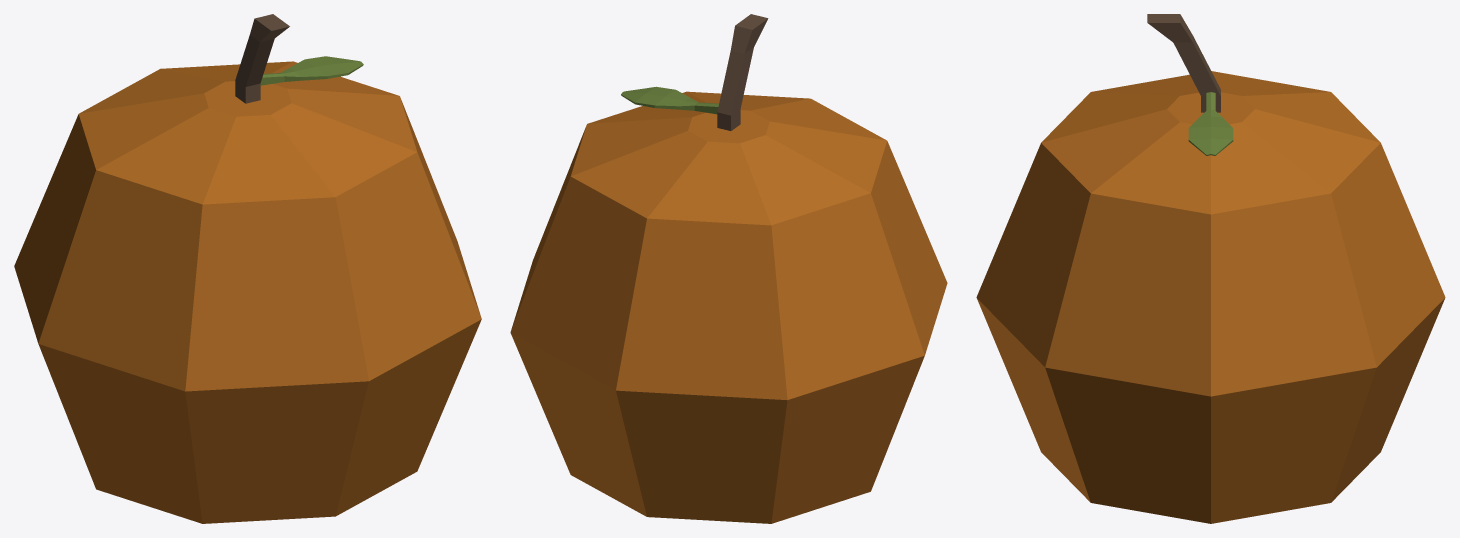
File: SM_Envr_Nature_Farm_Fruit_Orange.fbx
3 views of the same model, side by side, from view 1: azimuth 30°, elevation 25°; view 2: azimuth 150°, elevation 25°; view 3: azimuth 270°, elevation 25° (orthographic). The views are drawn at different scales.
Visible parts, largest first — view 1: SM_Envr_Nature_Farm_Fruit_Orange; view 2: SM_Envr_Nature_Farm_Fruit_Orange; view 3: SM_Envr_Nature_Farm_Fruit_Orange.
Part boxes in pixels (x1,y1,x2,y2): SM_Envr_Nature_Farm_Fruit_Orange: [14, 14, 481, 523]; SM_Envr_Nature_Farm_Fruit_Orange: [510, 14, 947, 523]; SM_Envr_Nature_Farm_Fruit_Orange: [976, 14, 1445, 523].
Size of the model in its own units: 18 by 19.79 by 18.
